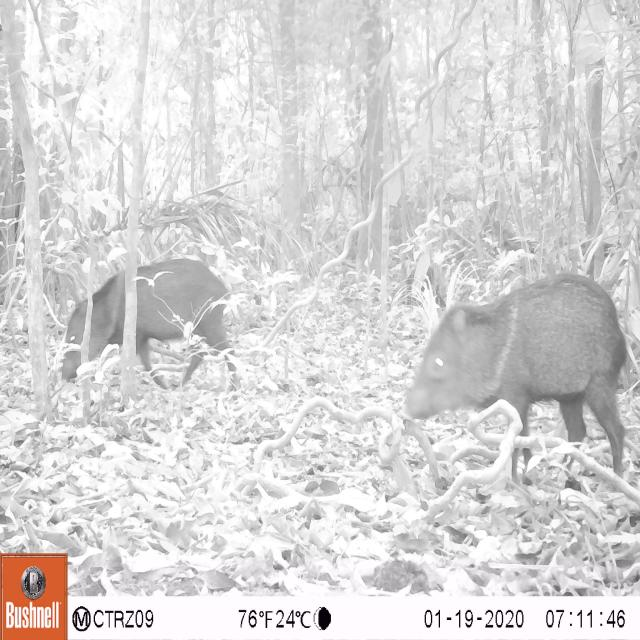White-lipped Peccary: (401, 263, 631, 482), (55, 251, 241, 409)
